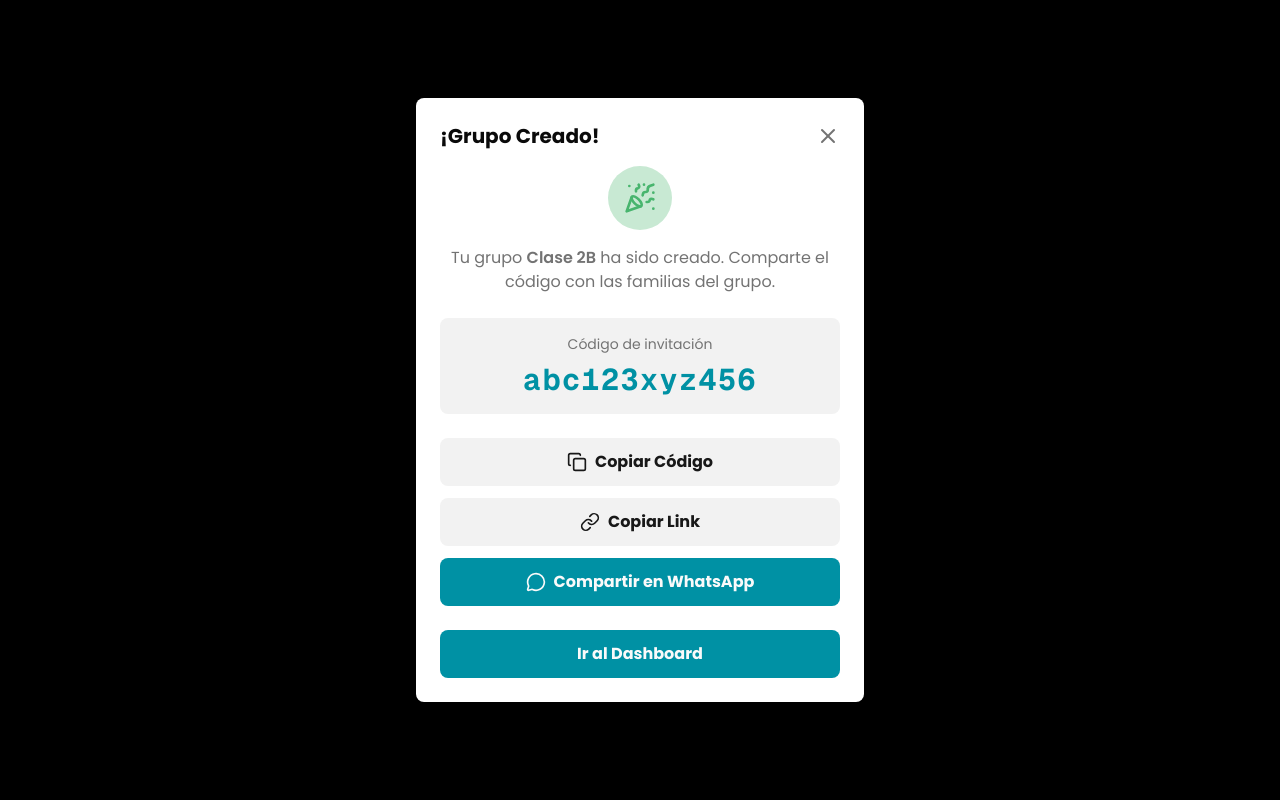
Test: InviteCodeModal › copia el código al portapapeles
The width and height of the screenshot is (1280, 800).
Step 1. Click the button "Copiar Código" → (640, 462), box [440,438,840,486]
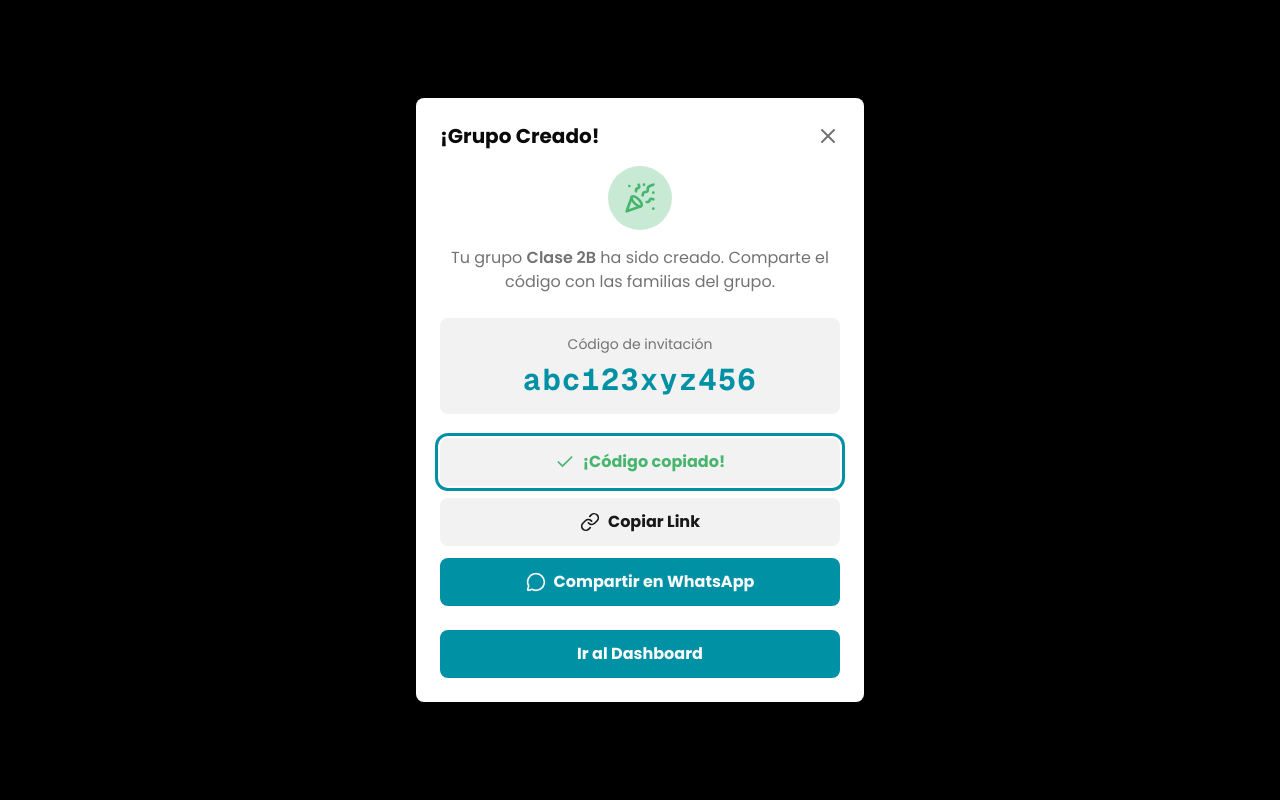
Check: the text "¡Código copiado!" is shown, box [583,450,725,474]
